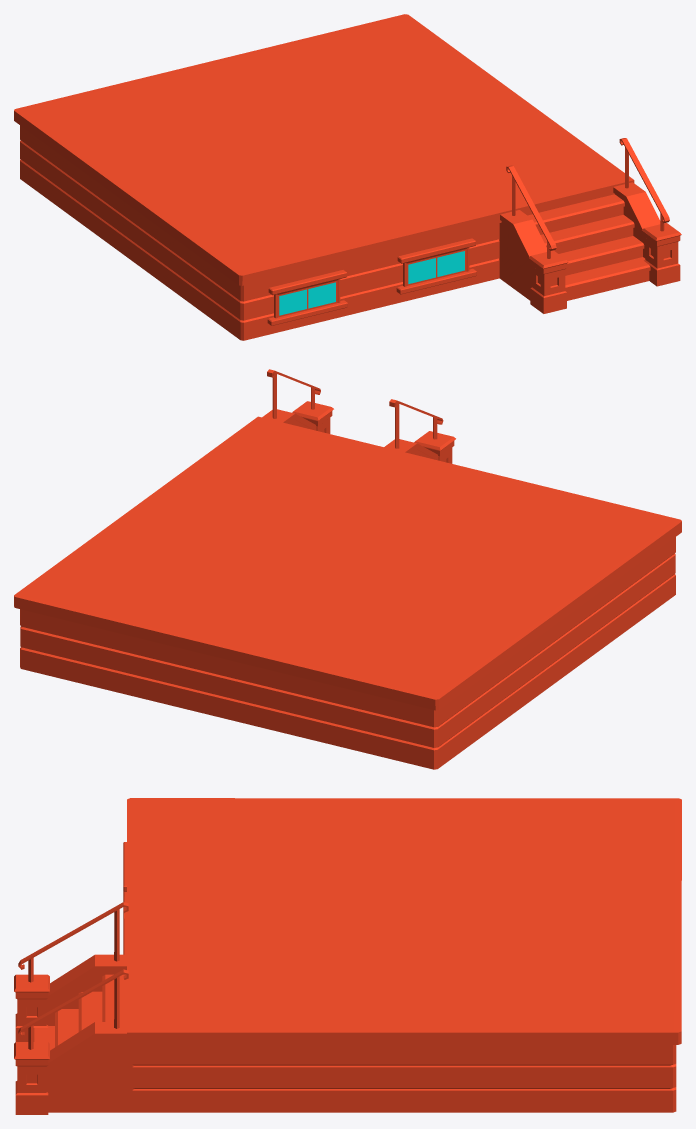
Rendered from SM_Squarehouse_Bottom_Small_B_F_City.fbx.
3 views of the same model, one above another, from view 1: azimuth 30°, elevation 25°; view 2: azimuth 150°, elevation 25°; view 3: azimuth 270°, elevation 25° (orthographic). The views are drawn at different scales.
Visible parts, largest first — view 1: SM_Squarehouse_Bottom_Small_B_F_City; view 2: SM_Squarehouse_Bottom_Small_B_F_City; view 3: SM_Squarehouse_Bottom_Small_B_F_City.
Boxes of the visible parts, x1=… form: SM_Squarehouse_Bottom_Small_B_F_City: x1=14, y1=14, x2=681, y2=340; SM_Squarehouse_Bottom_Small_B_F_City: x1=14, y1=369, x2=681, y2=769; SM_Squarehouse_Bottom_Small_B_F_City: x1=14, y1=798, x2=681, y2=1114.
Bounding box in the file's own units: 6.13 × 1.67 × 7.36.
